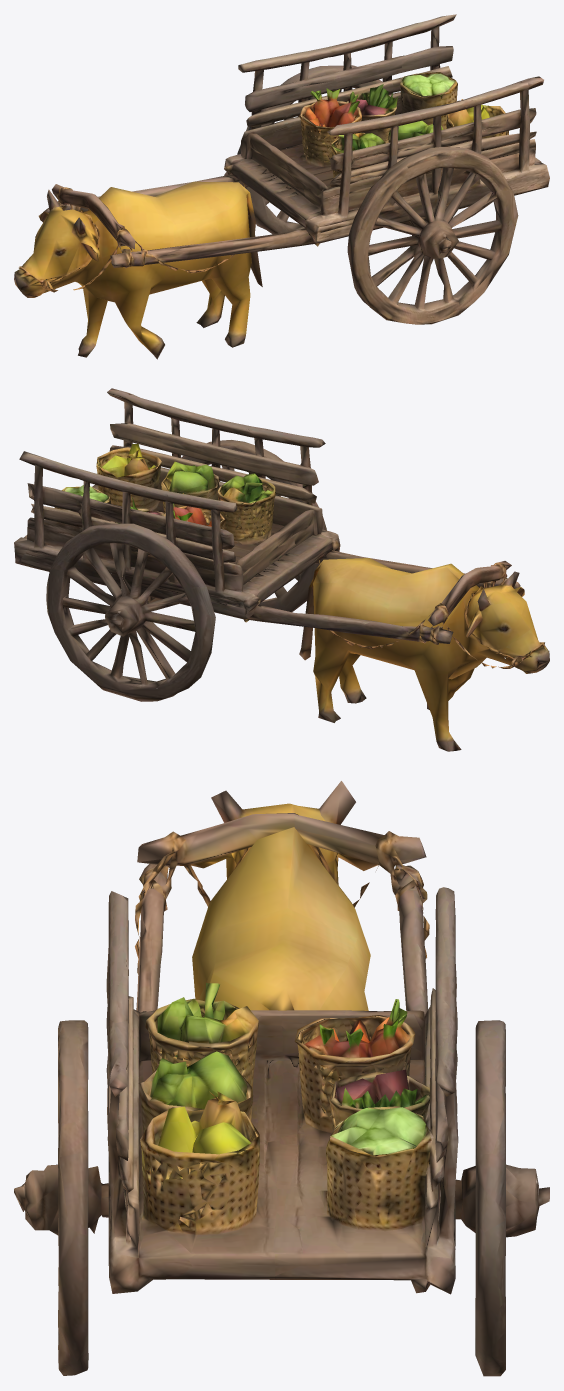
The model's file is xe-bo-vua.0264e5c2.glb.
3 renders of one model, top to bottom at view 1: azimuth 30°, elevation 25°; view 2: azimuth 150°, elevation 25°; view 3: azimuth 270°, elevation 25°, orthographic. The views are drawn at different scales.
Visible parts, largest first — view 1: tripo_node_3d8f8758-ac8a-424e-9aa5-c139c53c9dc5; view 2: tripo_node_3d8f8758-ac8a-424e-9aa5-c139c53c9dc5; view 3: tripo_node_3d8f8758-ac8a-424e-9aa5-c139c53c9dc5.
Part boxes in pixels (bbox=[...]): tripo_node_3d8f8758-ac8a-424e-9aa5-c139c53c9dc5: bbox=[14, 14, 549, 359]; tripo_node_3d8f8758-ac8a-424e-9aa5-c139c53c9dc5: bbox=[14, 388, 549, 751]; tripo_node_3d8f8758-ac8a-424e-9aa5-c139c53c9dc5: bbox=[14, 781, 549, 1376].
Bounding box in the file's own units: 0.975 × 0.4238 × 0.4944.
Materials: 1 (1 with a texture image).
